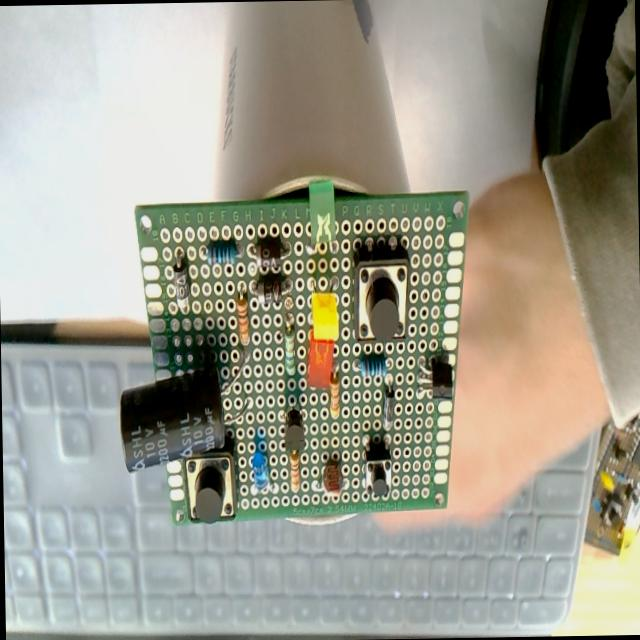Electrolytic capacitor: (118, 366, 226, 474)
cds: (314, 448, 347, 501)
diode: (245, 236, 292, 278), (173, 258, 190, 316), (382, 374, 397, 432)
led: (305, 330, 335, 390), (310, 290, 340, 344), (250, 452, 268, 491)
resistor: (205, 239, 241, 265), (359, 354, 386, 378), (237, 296, 250, 345), (330, 374, 340, 419), (284, 323, 295, 361), (290, 452, 300, 492)
switch: (350, 238, 412, 348), (185, 447, 237, 524), (364, 440, 392, 498)
transistor: (414, 356, 454, 404), (284, 411, 306, 454)
